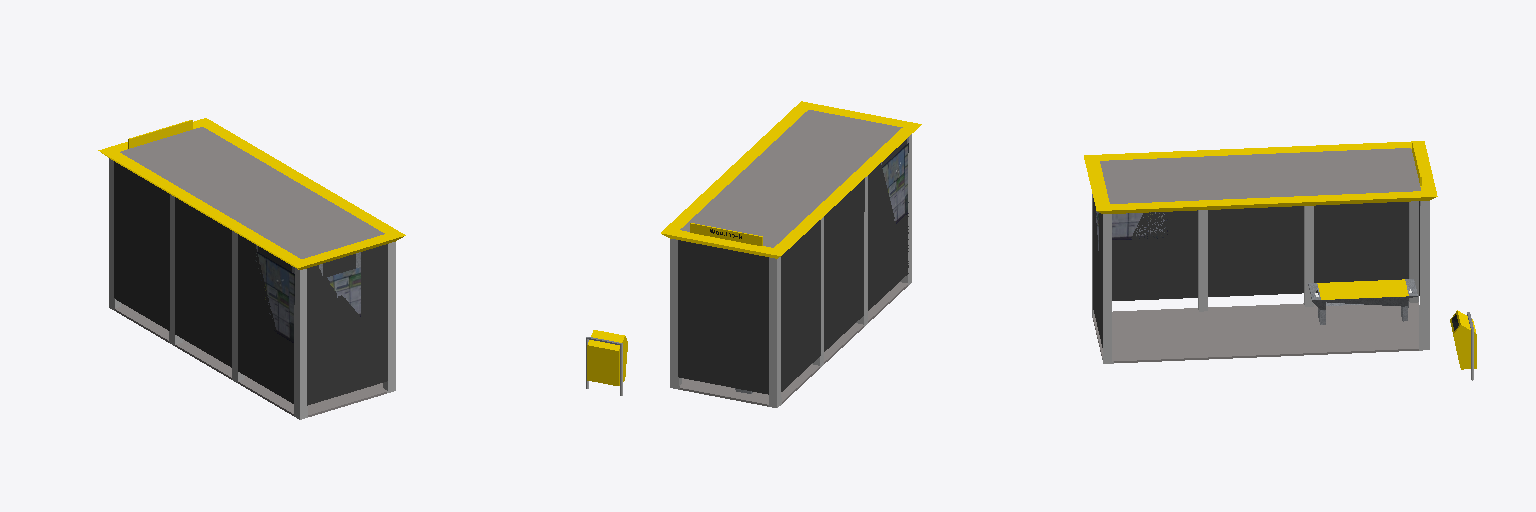
3 renders of one model, left to right at view 1: azimuth 30°, elevation 25°; view 2: azimuth 150°, elevation 25°; view 3: azimuth 270°, elevation 25°, orthographic.
Parts seen in each view (by area): view 1: Mesh11 skpDE80_1 Model, Mesh12 skpDE80_1 Model; view 2: Mesh11 skpDE80_1 Model, Mesh13 skpDE80_1 Model; view 3: Mesh11 skpDE80_1 Model, Mesh12 skpDE80_1 Model, Mesh13 skpDE80_1 Model.
Boxes of the visible parts, x1,y1,x2,y2 form: Mesh11 skpDE80_1 Model: [98, 118, 405, 419]; Mesh12 skpDE80_1 Model: [307, 244, 387, 405]; Mesh11 skpDE80_1 Model: [661, 101, 921, 407]; Mesh13 skpDE80_1 Model: [587, 330, 627, 385]; Mesh11 skpDE80_1 Model: [1084, 141, 1437, 363]; Mesh12 skpDE80_1 Model: [1093, 198, 1102, 347]; Mesh13 skpDE80_1 Model: [1450, 310, 1476, 369].
Size of the model in its own units: 104 by 96.06 by 206.
11 materials, 2 textured.